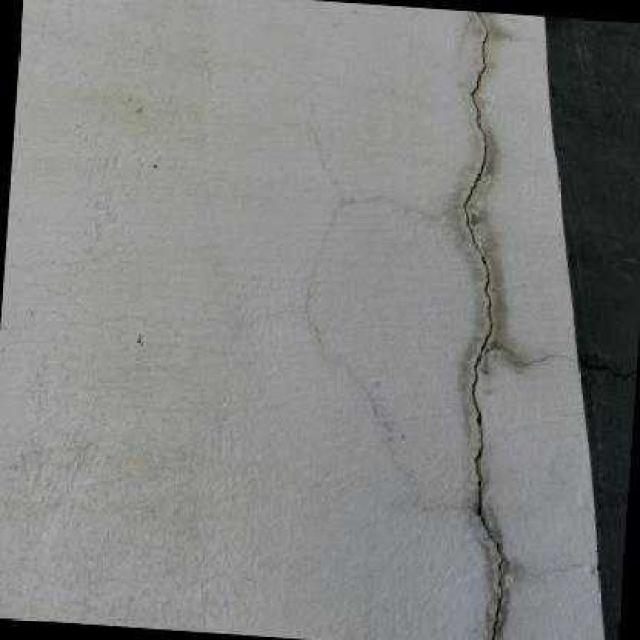D00: (462, 10, 502, 640)
